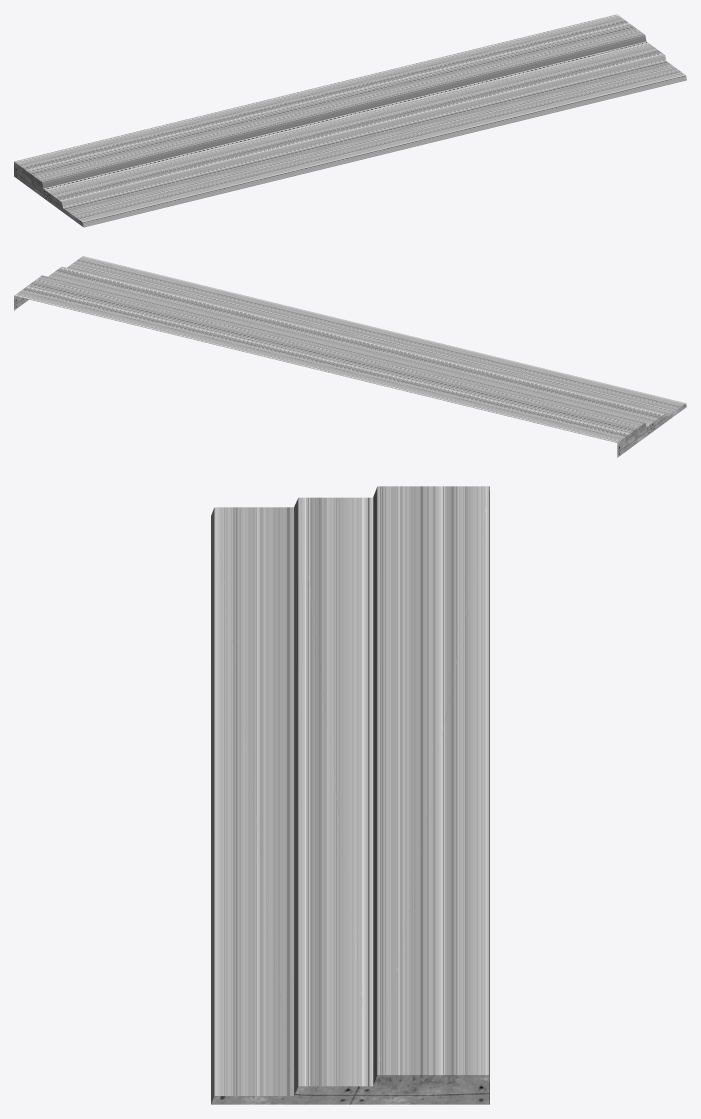
The model's file is pm-platea-straight.glb.
3 views of the same model, one above another, from view 1: azimuth 30°, elevation 25°; view 2: azimuth 150°, elevation 25°; view 3: azimuth 270°, elevation 25° (orthographic). The views are drawn at different scales.
Parts seen in each view (by area): view 1: Platea_Straight; view 2: Platea_Straight; view 3: Platea_Straight.
Part boxes in pixels (x1=…): Platea_Straight: x1=14, y1=14, x2=686, y2=227; Platea_Straight: x1=14, y1=256, x2=686, y2=457; Platea_Straight: x1=211, y1=486, x2=489, y2=1104.
Size of the model in its own units: 27.31 by 0.6469 by 5.47.
Materials: 2 (2 with a texture image).
